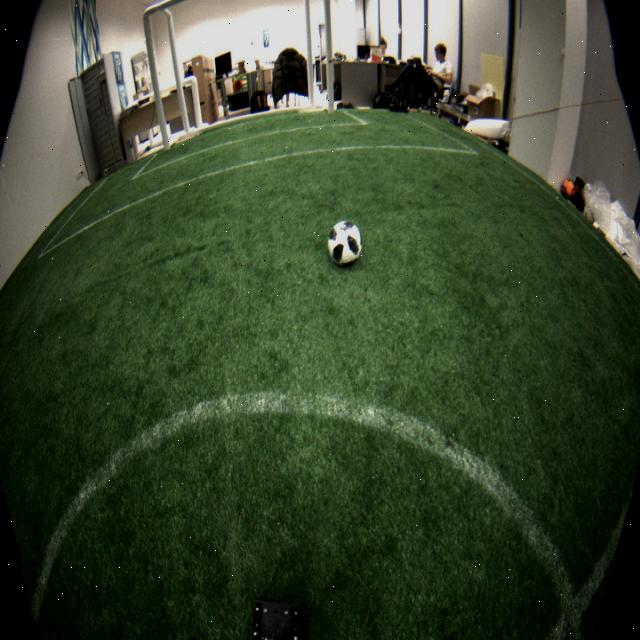ball: (327, 220, 362, 268)
goalpost: (140, 11, 171, 151), (324, 1, 335, 113)
